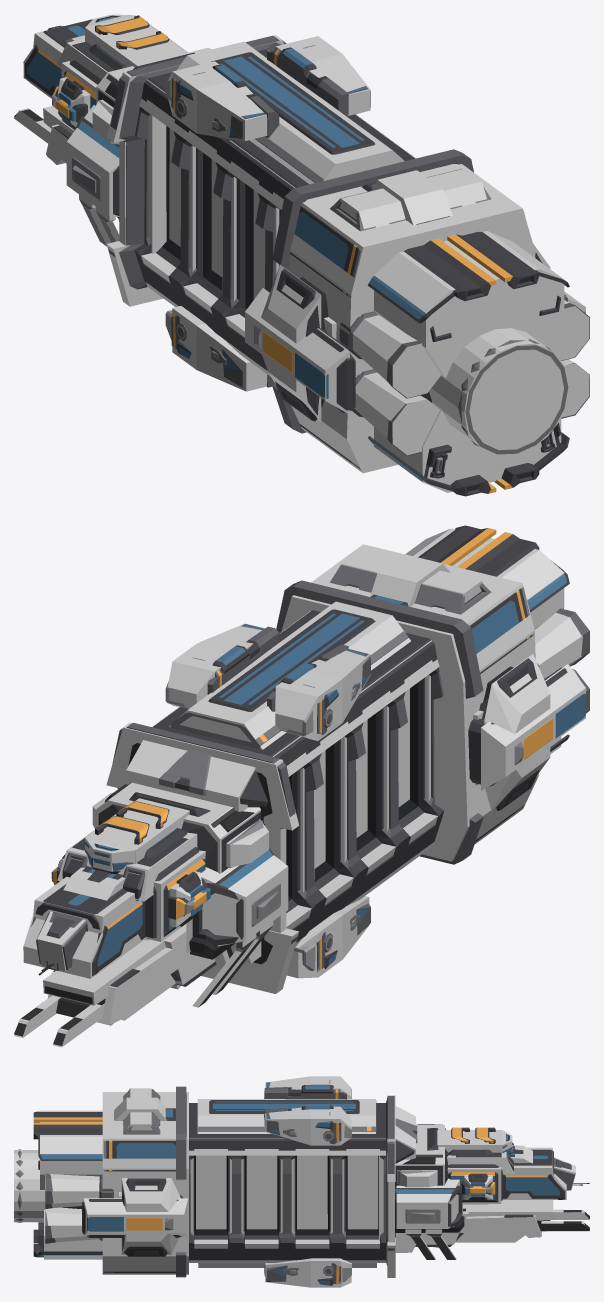
Rendered from SM_Ship_Transport_01.fbx.
The picture shows the model from 3 angles, top to bottom: view 1: azimuth 30°, elevation 25°; view 2: azimuth 150°, elevation 25°; view 3: azimuth 270°, elevation 25°; orthographic projection. The views are drawn at different scales.
Visible parts, largest first — view 1: SM_Ship_Transport_01_ConvexHulls, SM_Ship_Transport_01_LOD0; view 2: SM_Ship_Transport_01_ConvexHulls, SM_Ship_Transport_01_LOD0; view 3: SM_Ship_Transport_01_ConvexHulls, SM_Ship_Transport_01_LOD0.
Part boxes in pixels (x1,y1,x2,y2): SM_Ship_Transport_01_ConvexHulls: (14,14,589,492); SM_Ship_Transport_01_LOD0: (14,15,589,496); SM_Ship_Transport_01_ConvexHulls: (14,528,586,1047); SM_Ship_Transport_01_LOD0: (14,525,589,1045); SM_Ship_Transport_01_ConvexHulls: (14,1076,589,1287); SM_Ship_Transport_01_LOD0: (15,1079,589,1285).
Bounding box in the file's own units: 13728 × 4383 × 4532.
Materials: 1 (1 with a texture image).
